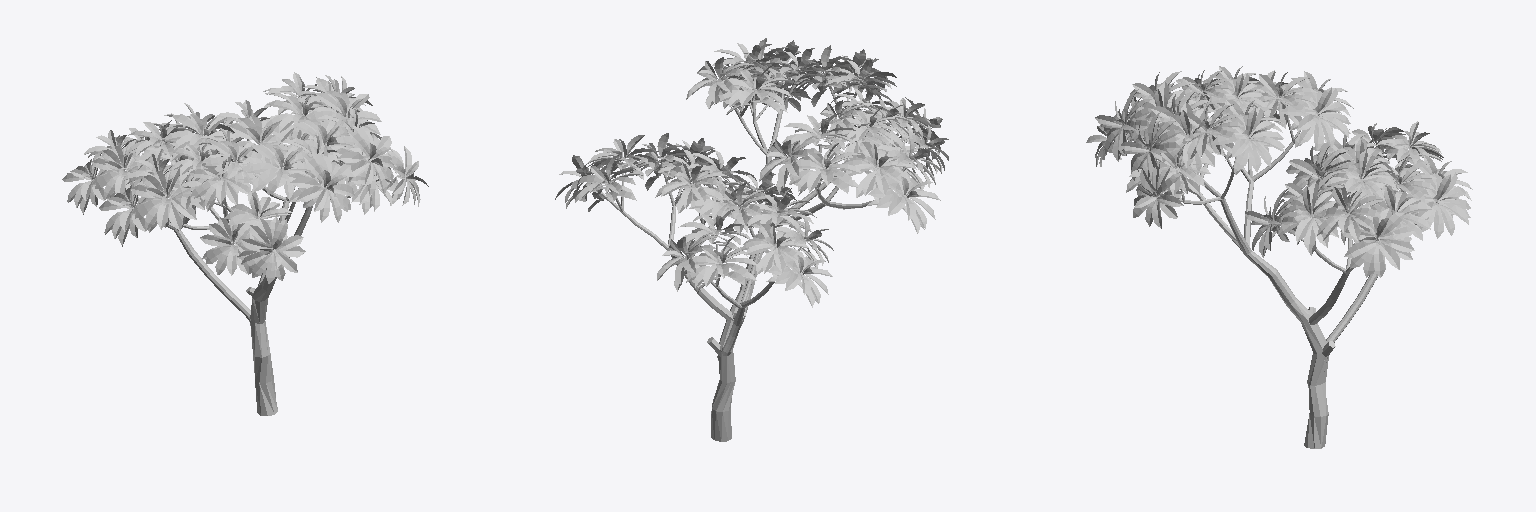
The model's file is tree.obj.
The picture shows the model from 3 angles: view 1: azimuth 30°, elevation 25°; view 2: azimuth 150°, elevation 25°; view 3: azimuth 270°, elevation 25°; orthographic projection.
Parts seen in each view (by area): view 1: Mesh_1, Mesh_2, Mesh_3, Mesh_5, Mesh_6, Mesh_7, Mesh_4; view 2: Mesh_4, Mesh_1, Mesh_3, Mesh_5, Mesh_2, Mesh_7, Mesh_6; view 3: Mesh_4, Mesh_2, Mesh_5, Mesh_7, Mesh_1, Mesh_3, Mesh_6.
Part boxes in pixels (x1,y1,x2,y2): Mesh_1: (107,107,392,246); Mesh_2: (105,75,428,274); Mesh_3: (122,95,315,283); Mesh_5: (80,78,412,214); Mesh_6: (62,96,354,259); Mesh_7: (137,107,397,415); Mesh_4: (68,72,367,207); Mesh_4: (559,66,899,302); Mesh_1: (659,38,941,229); Mesh_3: (655,79,948,287); Mesh_5: (555,43,864,303); Mesh_2: (625,43,944,228); Mesh_7: (600,74,922,441); Mesh_6: (606,52,940,307); Mesh_4: (1166,66,1470,277); Mesh_2: (1126,72,1378,247); Mesh_5: (1139,88,1468,269); Mesh_7: (1178,104,1438,448); Mesh_1: (1095,70,1354,203); Mesh_3: (1086,70,1472,212); Mesh_6: (1102,70,1470,243).
Size of the model in its own units: 211 by 231 by 230.